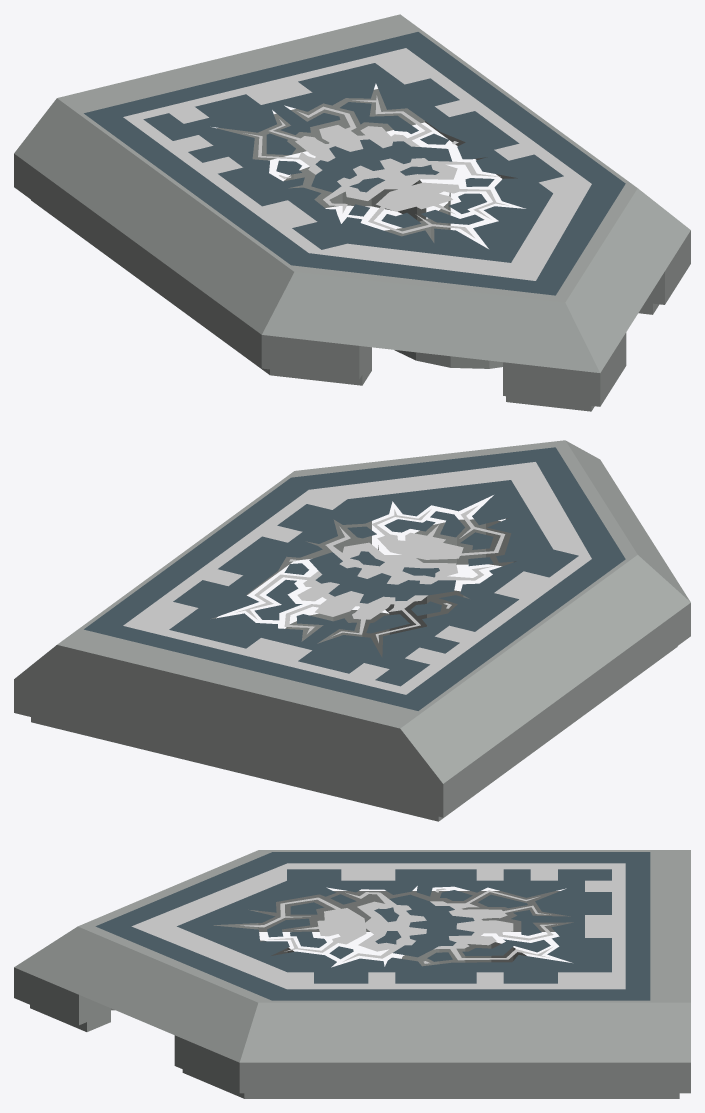
3 renders of one model, top to bottom at view 1: azimuth 30°, elevation 25°; view 2: azimuth 150°, elevation 25°; view 3: azimuth 270°, elevation 25°, orthographic. The views are drawn at different scales.
Visible parts, largest first — view 1: world; view 2: world; view 3: world.
Part boxes in pixels (x1,y1,x2,y2): world: [14, 14, 690, 411]; world: [14, 440, 690, 821]; world: [14, 850, 690, 1098].
Bounding box in the file's own units: 0.016 × 0.0032 × 0.024.
